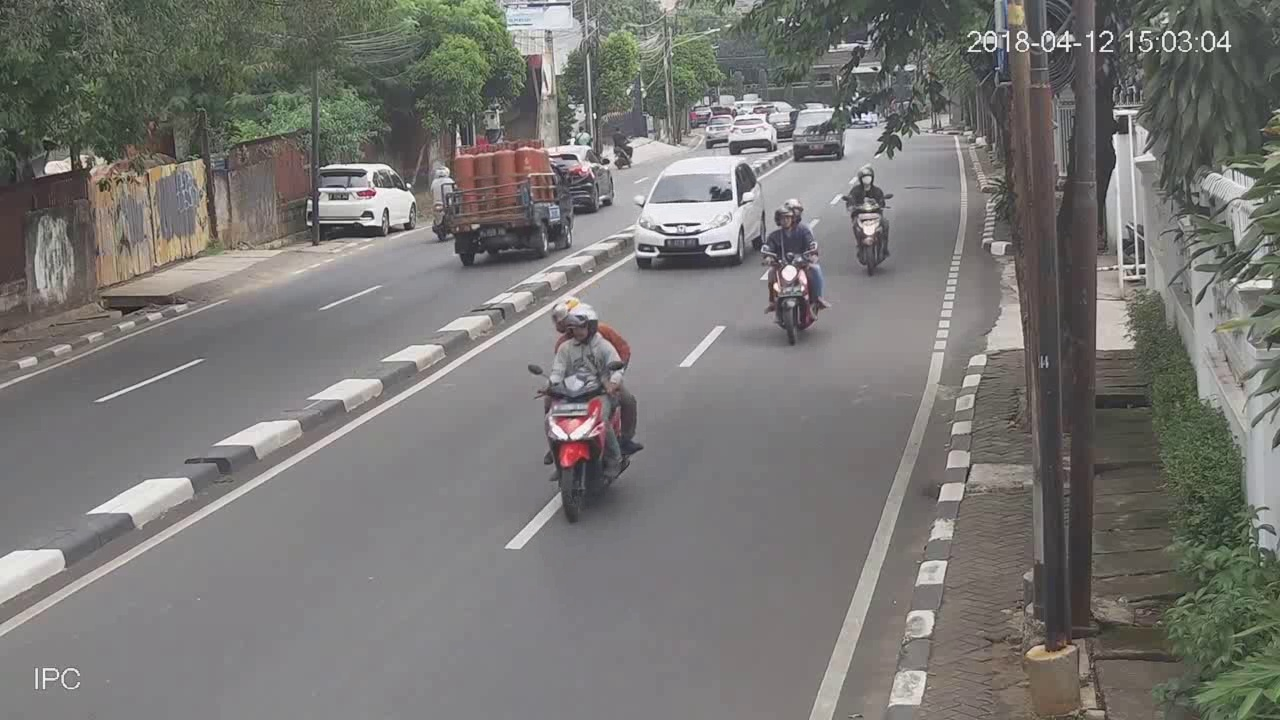car: (634, 157, 769, 268), (304, 154, 422, 242), (546, 141, 623, 212), (796, 107, 845, 166), (724, 111, 780, 159)
motorcycle: (524, 299, 649, 526), (760, 197, 830, 345), (842, 161, 895, 278)
truck: (451, 138, 577, 269)
